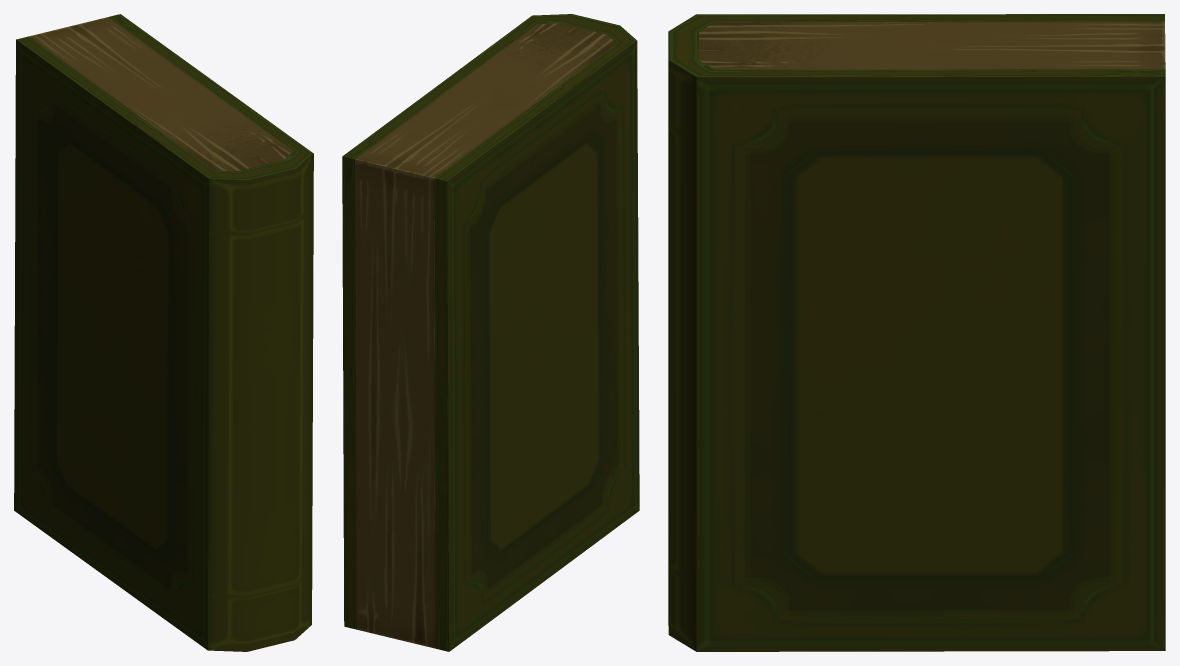
The model's file is book-simplified-single.glb.
The picture shows the model from 3 angles, left to right: view 1: azimuth 30°, elevation 25°; view 2: azimuth 150°, elevation 25°; view 3: azimuth 270°, elevation 25°; orthographic projection. The views are drawn at different scales.
Parts seen in each view (by area): view 1: Book_Simplified_Single; view 2: Book_Simplified_Single; view 3: Book_Simplified_Single.
Part boxes in pixels (box(x1,y1,x2,y2)): Book_Simplified_Single: box(14, 14, 313, 651); Book_Simplified_Single: box(342, 14, 639, 651); Book_Simplified_Single: box(668, 14, 1165, 651).
Size of the model in its own units: 0.0646 by 0.2683 by 0.21.
Materials: 1 (1 with a texture image).
